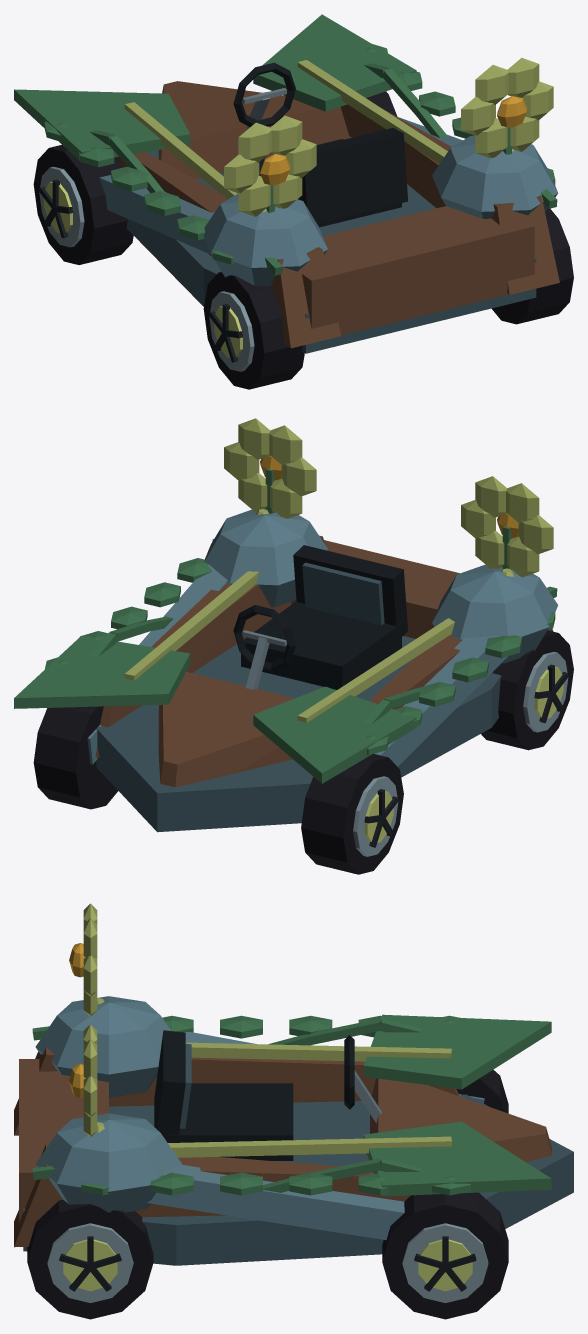
The model's file is kart.glb.
3 renders of one model, top to bottom at view 1: azimuth 30°, elevation 25°; view 2: azimuth 150°, elevation 25°; view 3: azimuth 270°, elevation 25°, orthographic. The views are drawn at different scales.
Visible parts, largest first — view 1: identity-nature-nature-root-cradle-and-leaf-bow, identity-nature-motif-flowers, identity-nature-driver-cockpit, wheel-rear-left, wheel-front-left, identity-nature-motif-vines, wheel-rear-right; view 2: identity-nature-nature-root-cradle-and-leaf-bow, identity-nature-driver-cockpit, identity-nature-motif-flowers, wheel-front-left, wheel-rear-left, identity-nature-motif-vines, wheel-front-right; view 3: identity-nature-nature-root-cradle-and-leaf-bow, wheel-front-right, wheel-rear-right, identity-nature-driver-cockpit, identity-nature-motif-vines, identity-nature-motif-flowers, wheel-front-left.
Boxes of the visible parts, left/top/right/bottom form: identity-nature-nature-root-cradle-and-leaf-bow: left=14, top=14, right=559, bottom=353; identity-nature-motif-flowers: left=224, top=57, right=553, bottom=216; identity-nature-driver-cockpit: left=233, top=62, right=407, bottom=227; wheel-rear-left: left=203, top=272, right=304, bottom=389; wheel-front-left: left=33, top=145, right=133, bottom=264; identity-nature-motif-vines: left=44, top=44, right=557, bottom=275; wheel-rear-right: left=491, top=208, right=573, bottom=324; identity-nature-nature-root-cradle-and-leaf-bow: left=14, top=509, right=557, bottom=832; identity-nature-driver-cockpit: left=233, top=545, right=407, bottom=689; identity-nature-motif-flowers: left=224, top=418, right=553, bottom=577; wheel-front-left: left=301, top=754, right=403, bottom=874; wheel-rear-left: left=481, top=630, right=573, bottom=750; identity-nature-motif-vines: left=44, top=539, right=557, bottom=755; wheel-front-right: left=33, top=706, right=117, bottom=809; identity-nature-nature-root-cradle-and-leaf-bow: left=14, top=996, right=573, bottom=1265; wheel-front-right: left=382, top=1192, right=508, bottom=1319; wheel-rear-right: left=27, top=1199, right=153, bottom=1319; identity-nature-driver-cockpit: left=154, top=1030, right=381, bottom=1160; identity-nature-motif-vines: left=32, top=1015, right=470, bottom=1195; identity-nature-motif-flowers: left=69, top=903, right=97, bottom=1137; wheel-front-left: left=456, top=1069, right=508, bottom=1113.
Size of the model in its own units: 2.01 by 1.46 by 2.75.
